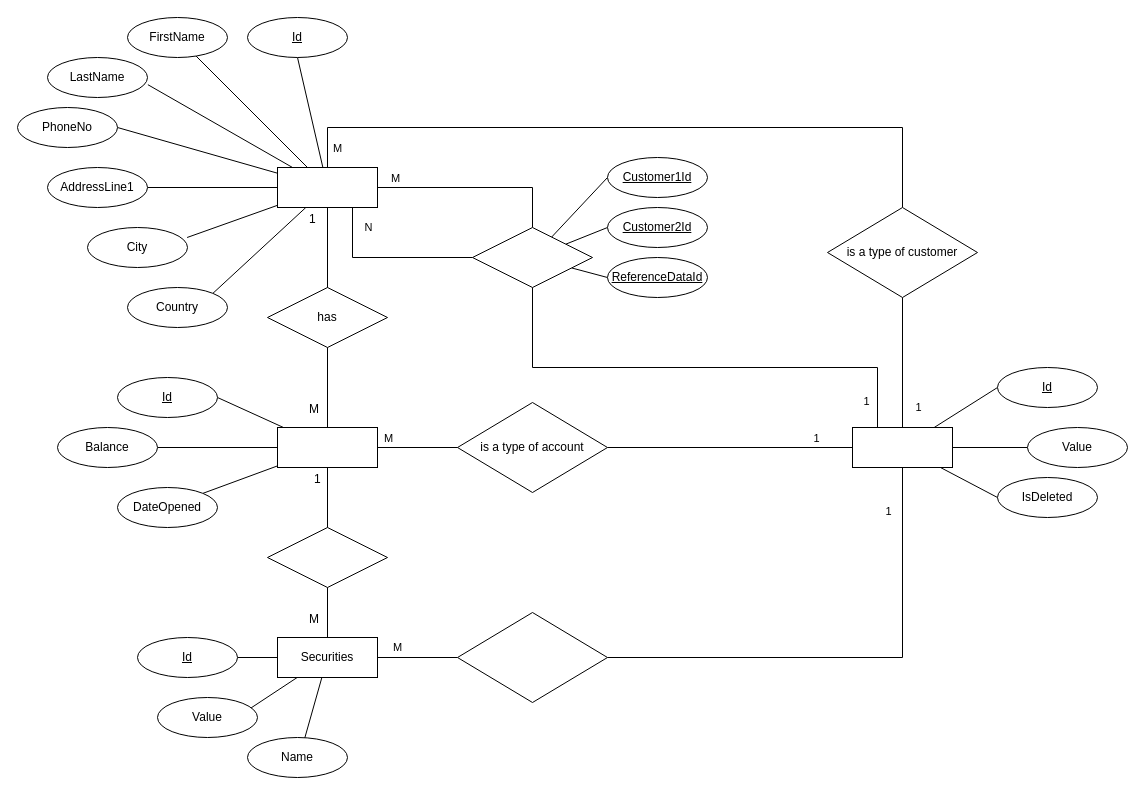
This 1145x795 diagram has some shape labels left out. Each missing label, with the box of its shape:
Accounts: (276, 426, 378, 468)
Associated to: (472, 226, 592, 288)
Customers: (276, 166, 378, 208)
is a type of security: (456, 612, 608, 702)
ReferenceData: (852, 426, 952, 468)
secured by: (266, 526, 388, 588)
